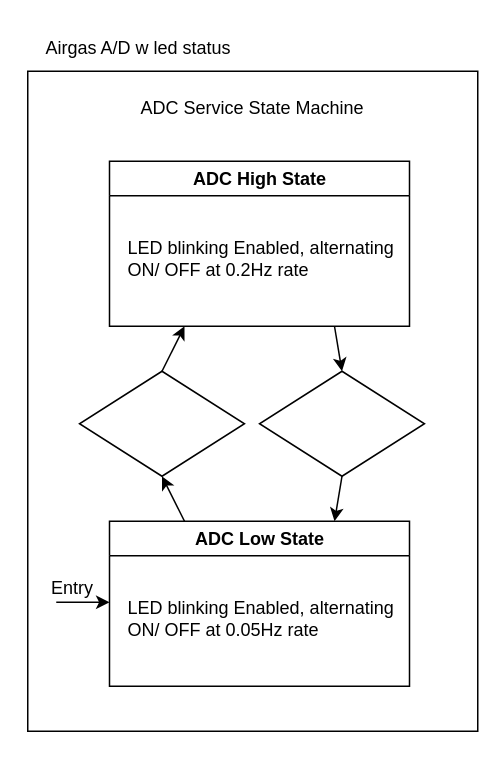
The diagram is 504 pixels wide and 758 high, and some of its shapes have lost their labels. Here are the shapes that lost their labels. From the top down, the centre of each, then its label:
point (161, 423): ADC Reading > 2V
point (341, 423): ADC Reading < 1.7V
